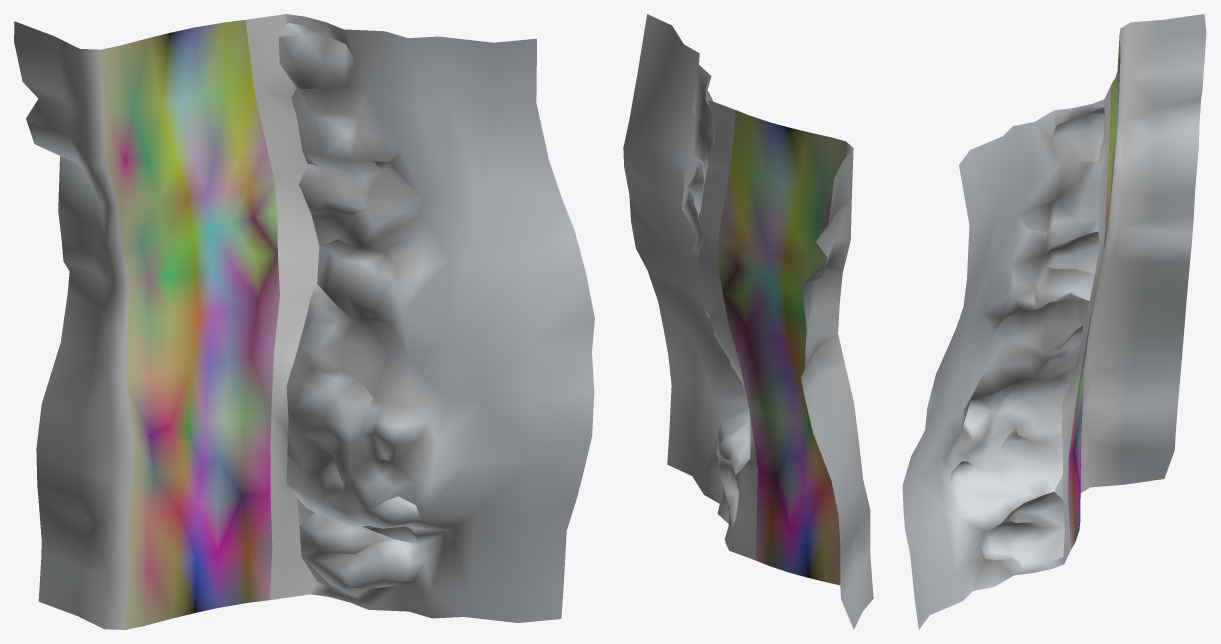
Rendered from Volcano_RampStraightB_lod1.glb.
3 views of the same model, side by side, from view 1: azimuth 30°, elevation 25°; view 2: azimuth 150°, elevation 25°; view 3: azimuth 270°, elevation 25° (orthographic). The views are drawn at different scales.
Visible parts, largest first — view 1: MeshNode_0, MeshNode_1; view 2: MeshNode_0, MeshNode_1; view 3: MeshNode_0, MeshNode_1.
Part boxes in pixels (x1,y1,x2,y2): MeshNode_0: (14,14,594,629); MeshNode_1: (101,20,279,629); MeshNode_0: (623,14,873,629); MeshNode_1: (717,110,845,585); MeshNode_0: (902,14,1206,629); MeshNode_1: (1068,31,1120,548).
Bounding box in the file's own units: 98.29 × 128 × 75.84.
